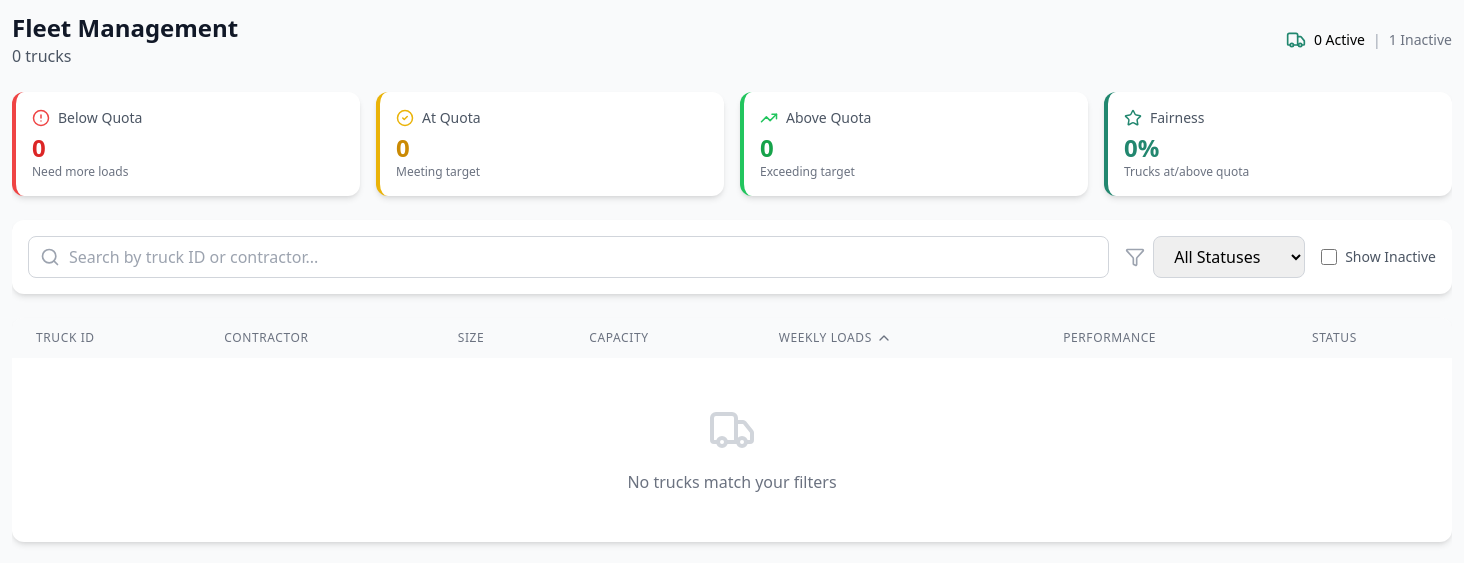
Test case: TruckList › rendering › should display "Inactive" status for inactive trucks when shown
// Check the checkbox to show inactive
Click the checkbox labelled "Show Inactive". click: point(1329, 257)
box: [1321,249,1337,265]
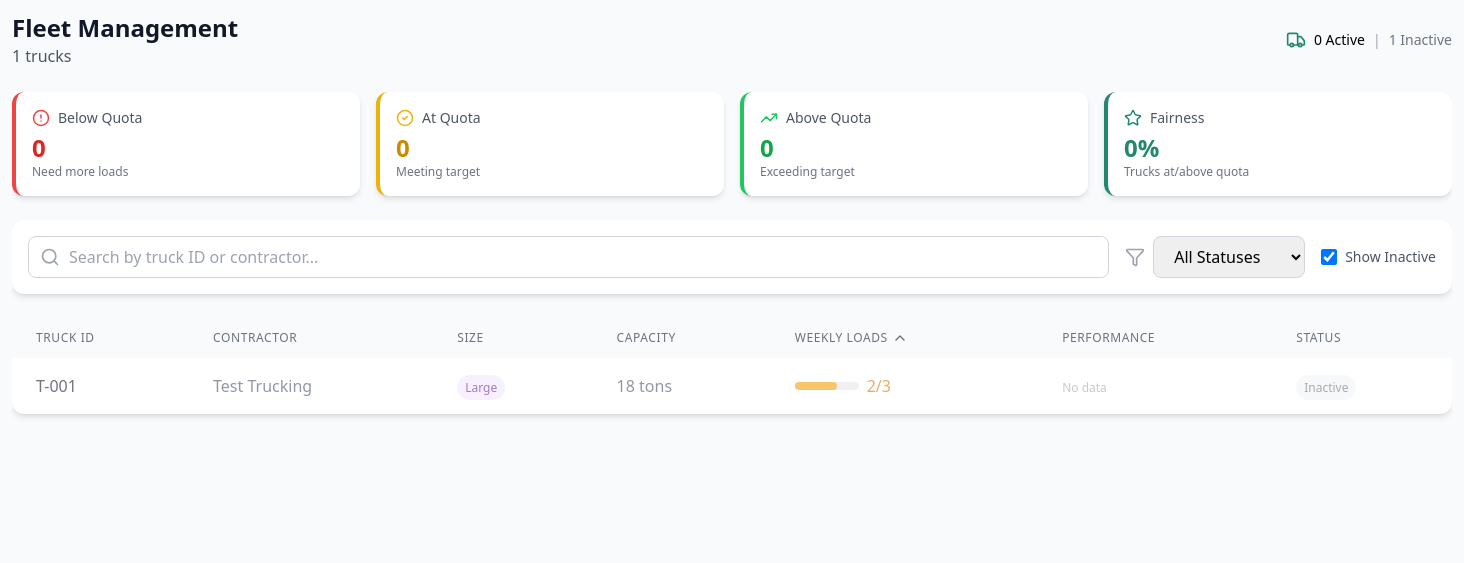
Result: the text "Inactive" is shown at [1296,375,1356,400]
